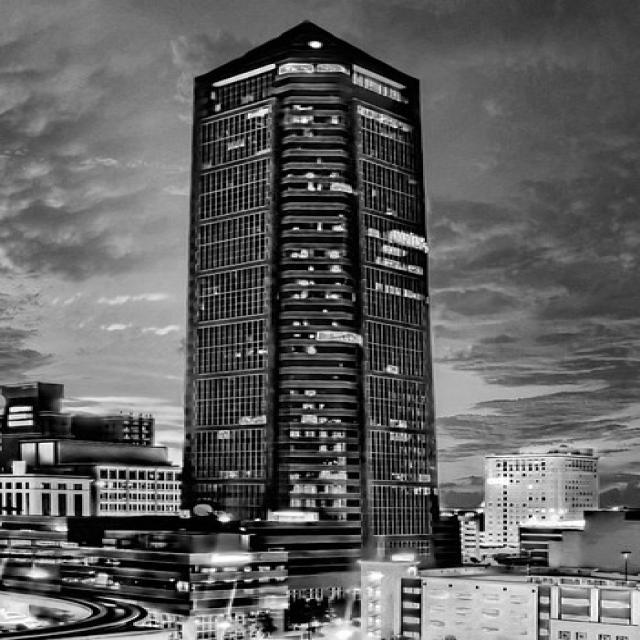building: (173, 17, 445, 568)
